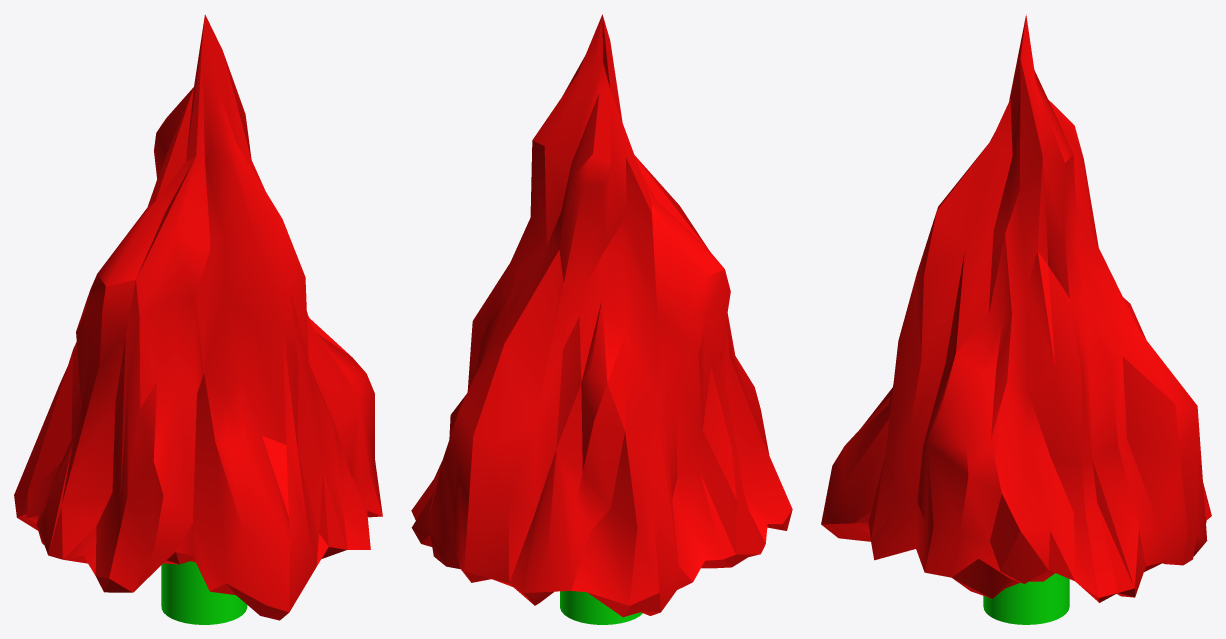
File: Christmas Tree 3.fbx
The picture shows the model from 3 angles, left to right: view 1: azimuth 30°, elevation 25°; view 2: azimuth 150°, elevation 25°; view 3: azimuth 270°, elevation 25°; orthographic projection.
Visible parts, largest first — view 1: Christmas Tree 3; view 2: Christmas Tree 3; view 3: Christmas Tree 3.
Part boxes in pixels (box(x1,y1,x2,y2)): Christmas Tree 3: box(14, 14, 382, 624); Christmas Tree 3: box(411, 14, 792, 624); Christmas Tree 3: box(821, 14, 1211, 624).
Bounding box in the file's own units: 137 × 248 × 148.
